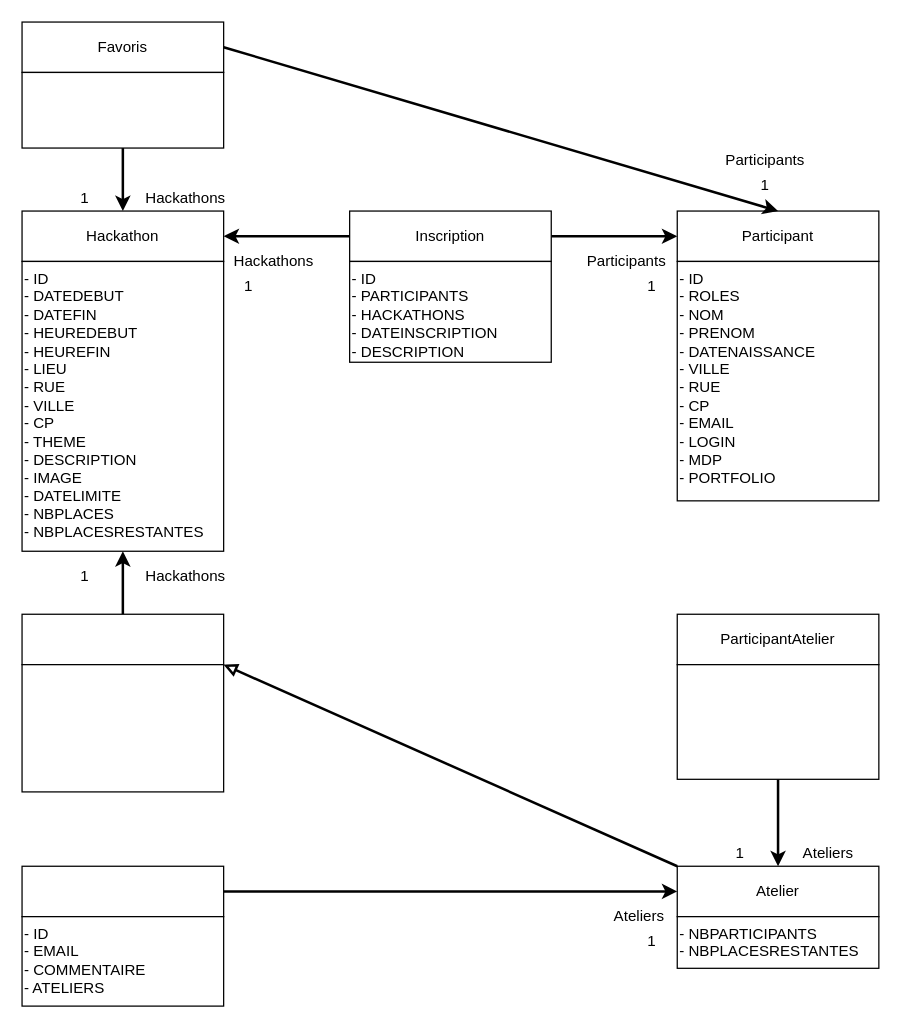
This 901x1028 diagram has some shape labels left out. The shapes that lost their labels are listed below. From the top down, each one's centre as x and y in pixels, then its label:
At point 122,109: "- IDFAVORIS - PARTICIPANTS - HACKATHONS".
At point 122,639: "Evenement".
At point 122,727: "- ID - HACKATHONS - NOMEVENEMENT - DATEDEBUT - DATEFIN - DUREE".
At point 777,721: "- ID - NOM - PRENOM - EMAIL - ATELIERS".
At point 122,891: "CommentaireAtelier".
